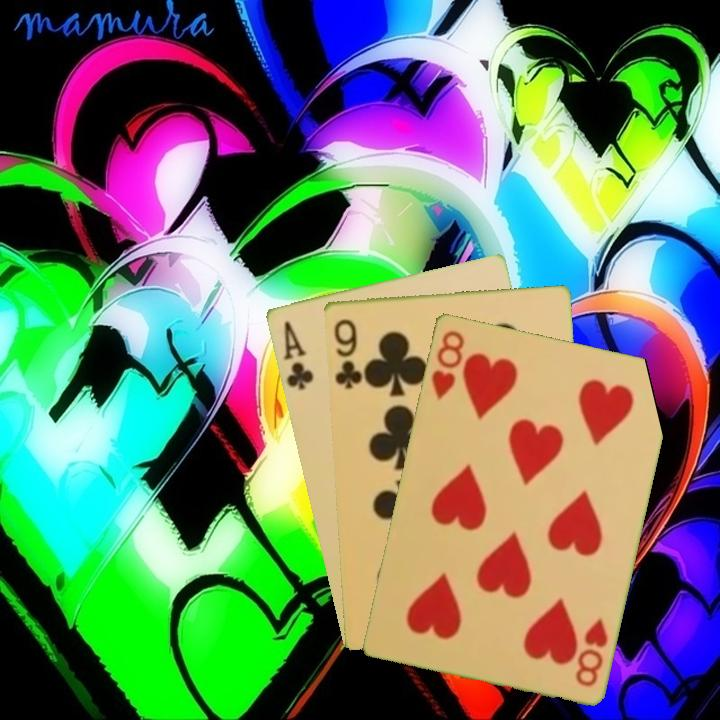8h: (427, 326, 467, 402), (571, 613, 611, 689)
9c: (330, 315, 365, 391)
Ac: (279, 317, 316, 393)
